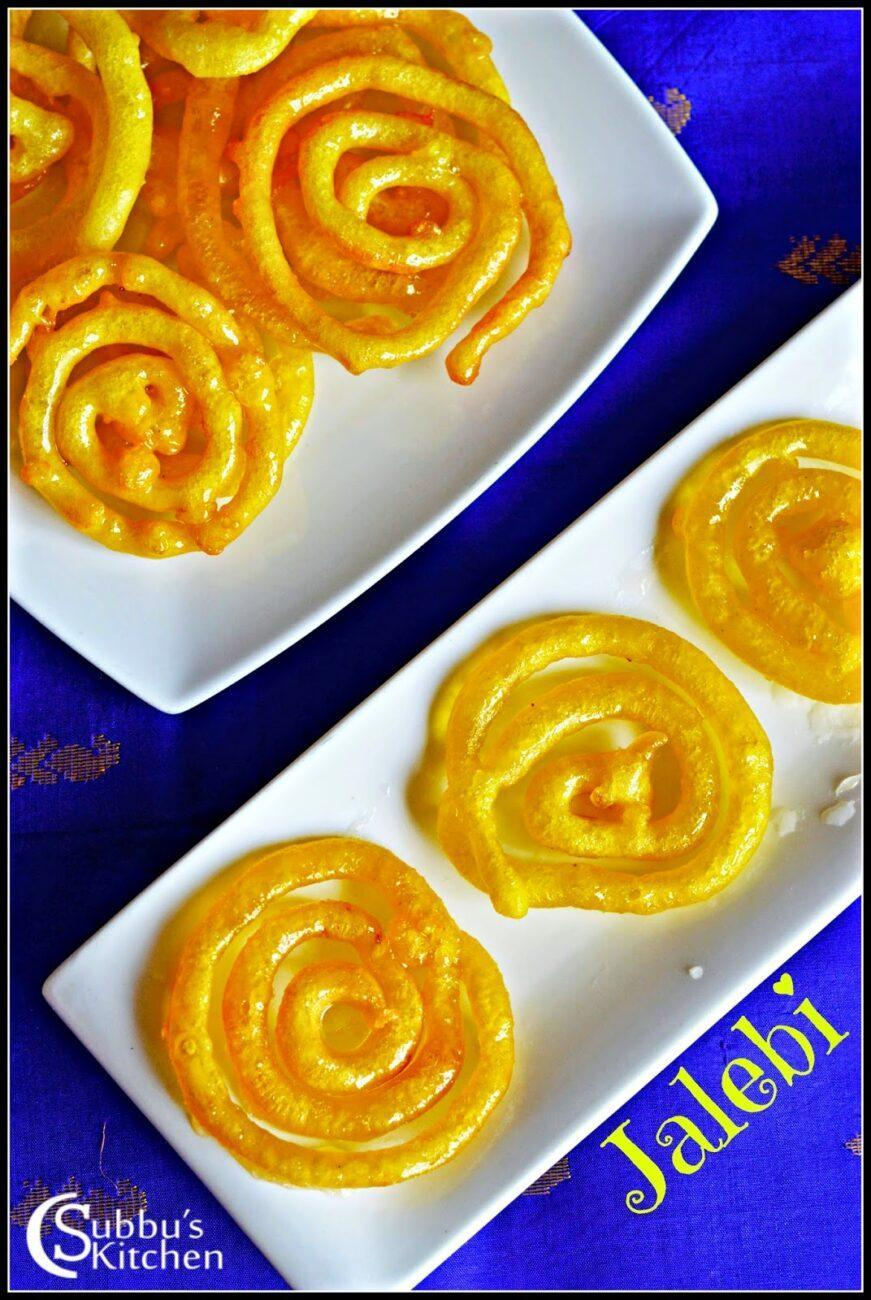jalebi: (10, 8, 560, 569), (140, 858, 490, 1200), (417, 605, 740, 886), (653, 375, 871, 733)
